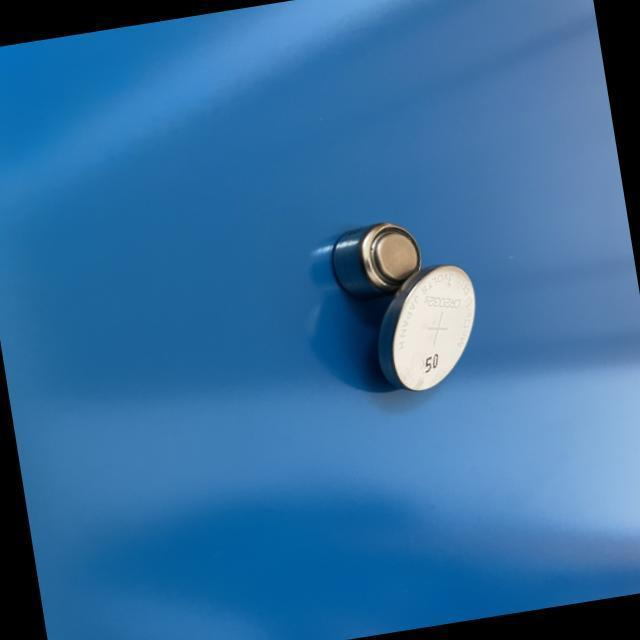COIN: (364, 258, 492, 396), (325, 214, 431, 310)
